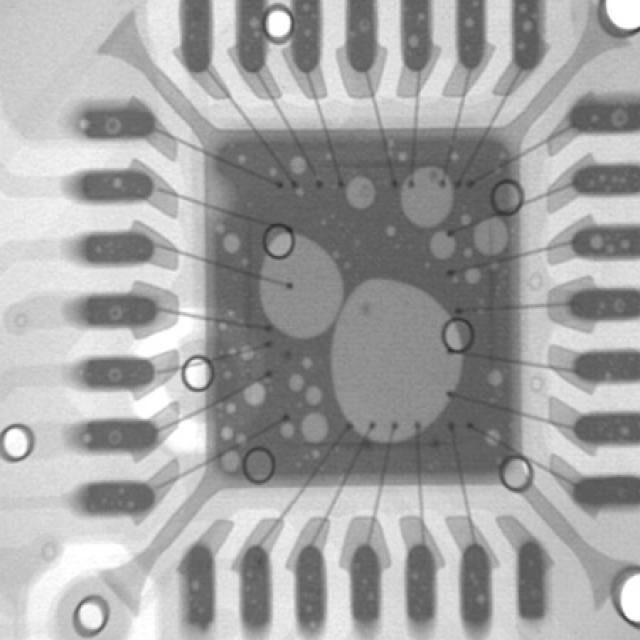component: (211, 141, 522, 473)
void: (212, 134, 519, 474), (333, 278, 464, 443), (260, 235, 344, 339), (401, 166, 455, 228), (475, 218, 509, 256), (501, 456, 535, 493), (492, 179, 525, 215), (444, 318, 475, 354), (265, 224, 296, 259), (347, 176, 377, 210), (302, 413, 329, 444), (431, 230, 458, 260), (243, 382, 266, 407), (220, 451, 240, 474), (223, 234, 240, 254), (488, 370, 505, 388), (486, 429, 502, 447), (289, 374, 304, 393), (306, 387, 321, 406), (292, 157, 307, 174), (466, 270, 482, 284), (240, 347, 255, 361), (282, 422, 294, 439), (220, 427, 233, 441), (226, 403, 238, 415), (462, 214, 474, 225), (302, 357, 313, 369), (236, 434, 247, 444), (451, 150, 461, 161), (387, 226, 397, 236), (465, 248, 474, 258), (238, 154, 247, 164), (223, 371, 233, 380), (226, 309, 236, 318), (216, 224, 225, 234), (452, 274, 461, 284), (270, 168, 279, 177), (344, 261, 353, 270), (296, 187, 304, 197), (240, 258, 250, 266), (219, 323, 228, 331), (400, 152, 408, 161), (326, 152, 333, 159), (425, 262, 431, 270), (229, 349, 236, 354)
